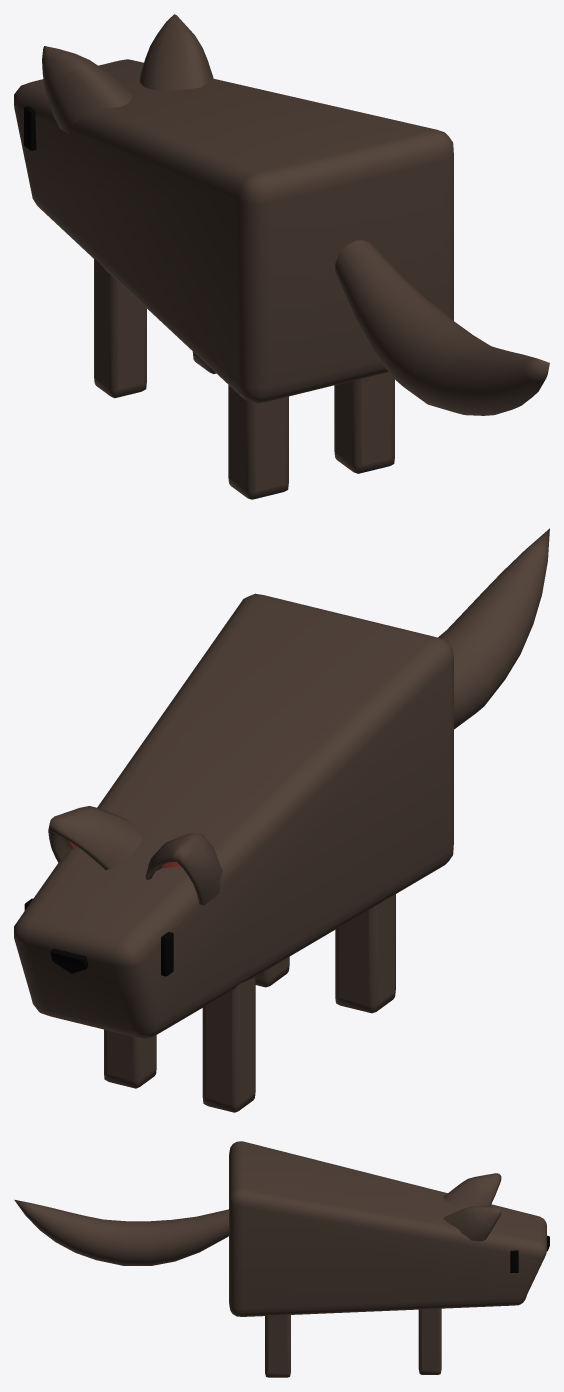
Rendered from Character_Wolf_01a.fbx.
3 renders of one model, top to bottom at view 1: azimuth 30°, elevation 25°; view 2: azimuth 150°, elevation 25°; view 3: azimuth 270°, elevation 25°, orthographic. The views are drawn at different scales.
Parts seen in each view (by area): view 1: Character_Wolf_01a; view 2: Character_Wolf_01a; view 3: Character_Wolf_01a.
Part boxes in pixels (x1=…): Character_Wolf_01a: x1=14, y1=14, x2=549, y2=499; Character_Wolf_01a: x1=14, y1=528, x2=549, y2=1112; Character_Wolf_01a: x1=14, y1=1141, x2=549, y2=1377.
Size of the model in its own units: 44.71 by 70.3 by 177.
